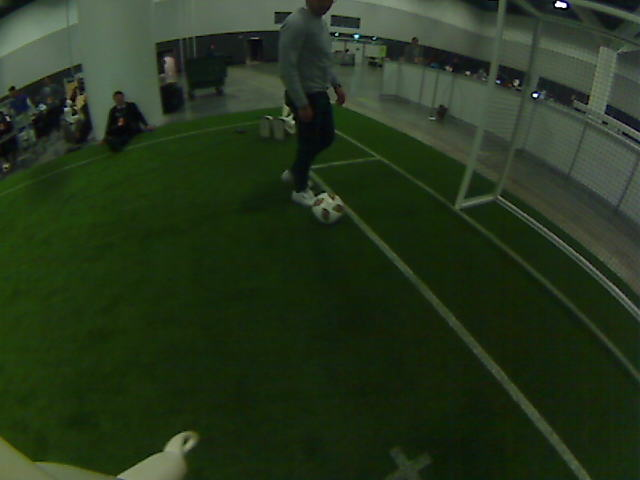ball: (306, 187, 346, 227)
goalpost: (434, 147, 474, 207)
robot: (267, 98, 282, 133)
